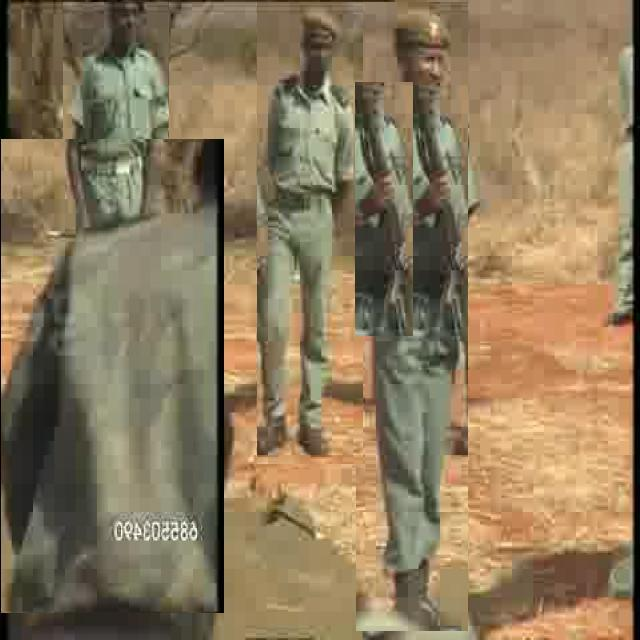poacher: (1, 139, 224, 613), (356, 2, 468, 631), (257, 2, 363, 464), (63, 2, 169, 218)
weapon: (355, 82, 413, 336)
